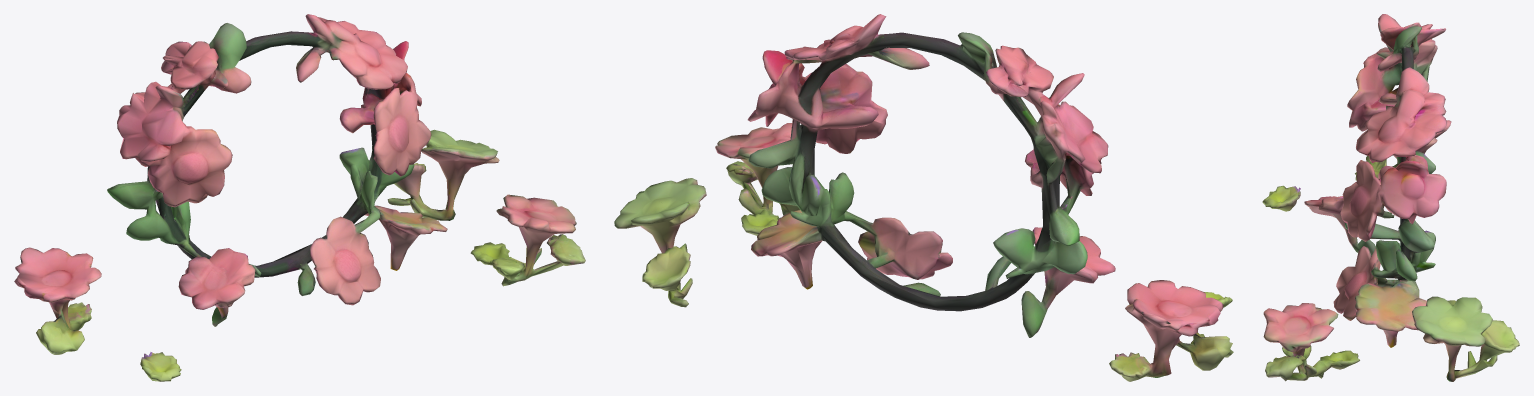
The model's file is flower_crown.glb.
The picture shows the model from 3 angles, left to right: view 1: azimuth 30°, elevation 25°; view 2: azimuth 150°, elevation 25°; view 3: azimuth 270°, elevation 25°; orthographic projection. The views are drawn at different scales.
Bounding box in the file's own units: 2 × 1.08 × 0.9834.
1 material, 1 textured.
